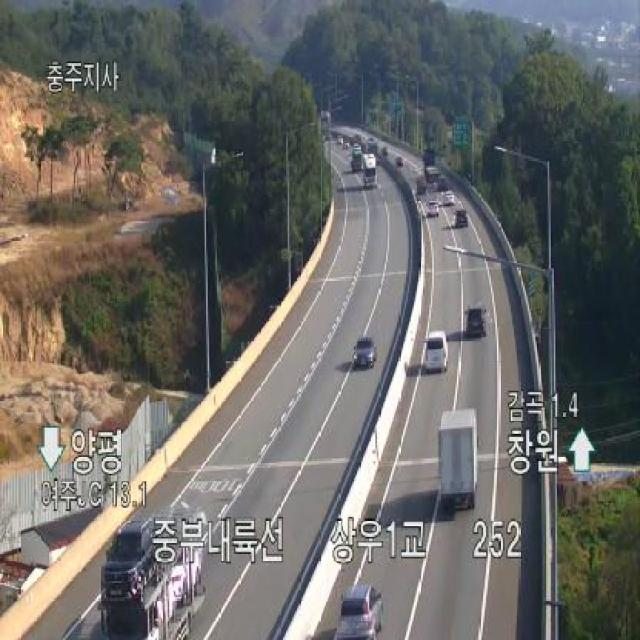Car: (336, 583, 384, 639), (423, 329, 449, 374), (352, 336, 377, 370), (465, 302, 486, 340), (454, 208, 469, 229), (426, 200, 442, 218), (443, 191, 455, 206), (438, 177, 448, 191), (396, 155, 404, 168), (344, 140, 350, 151), (337, 136, 343, 144)
Truck: (98, 518, 211, 638), (438, 411, 480, 512), (423, 151, 440, 186), (363, 156, 379, 190), (351, 143, 363, 174), (417, 174, 429, 197)
